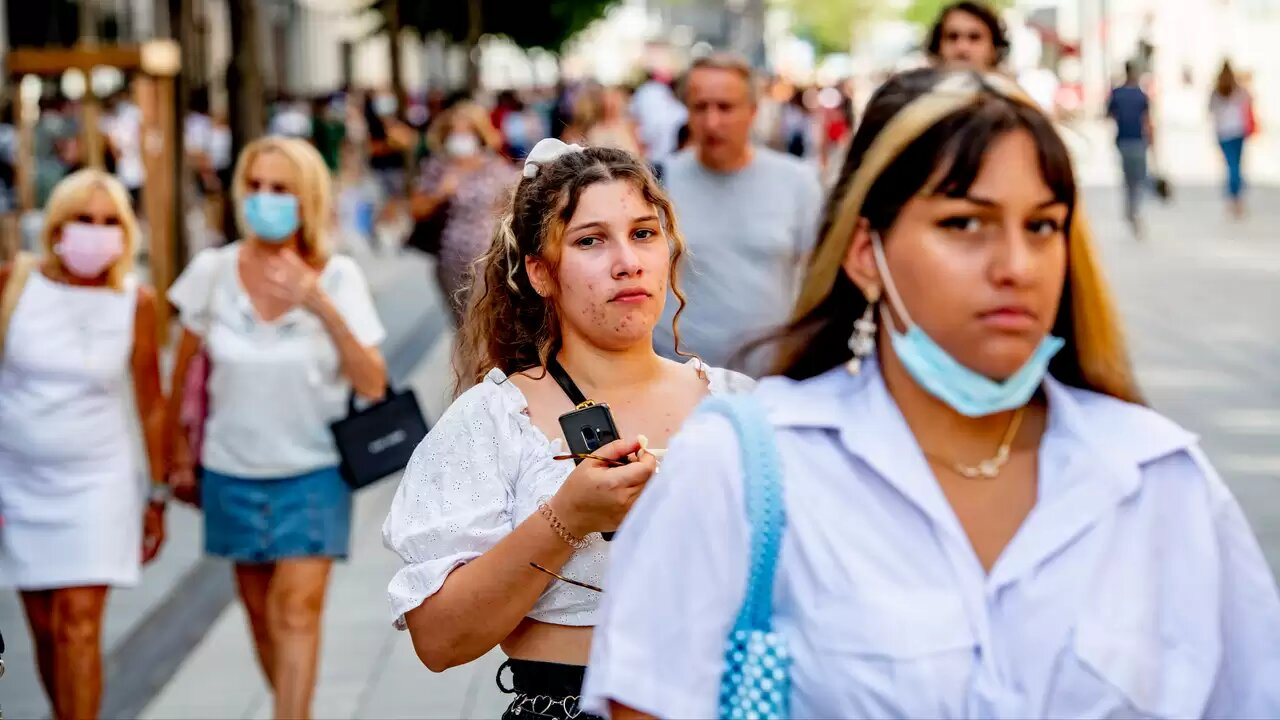with_incorrect_mask: (888, 161, 1082, 420)
without_mask: (561, 199, 671, 344)
